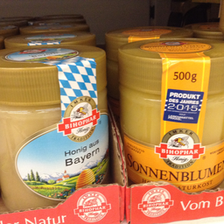honey: (1, 47, 111, 215), (120, 38, 224, 190)
